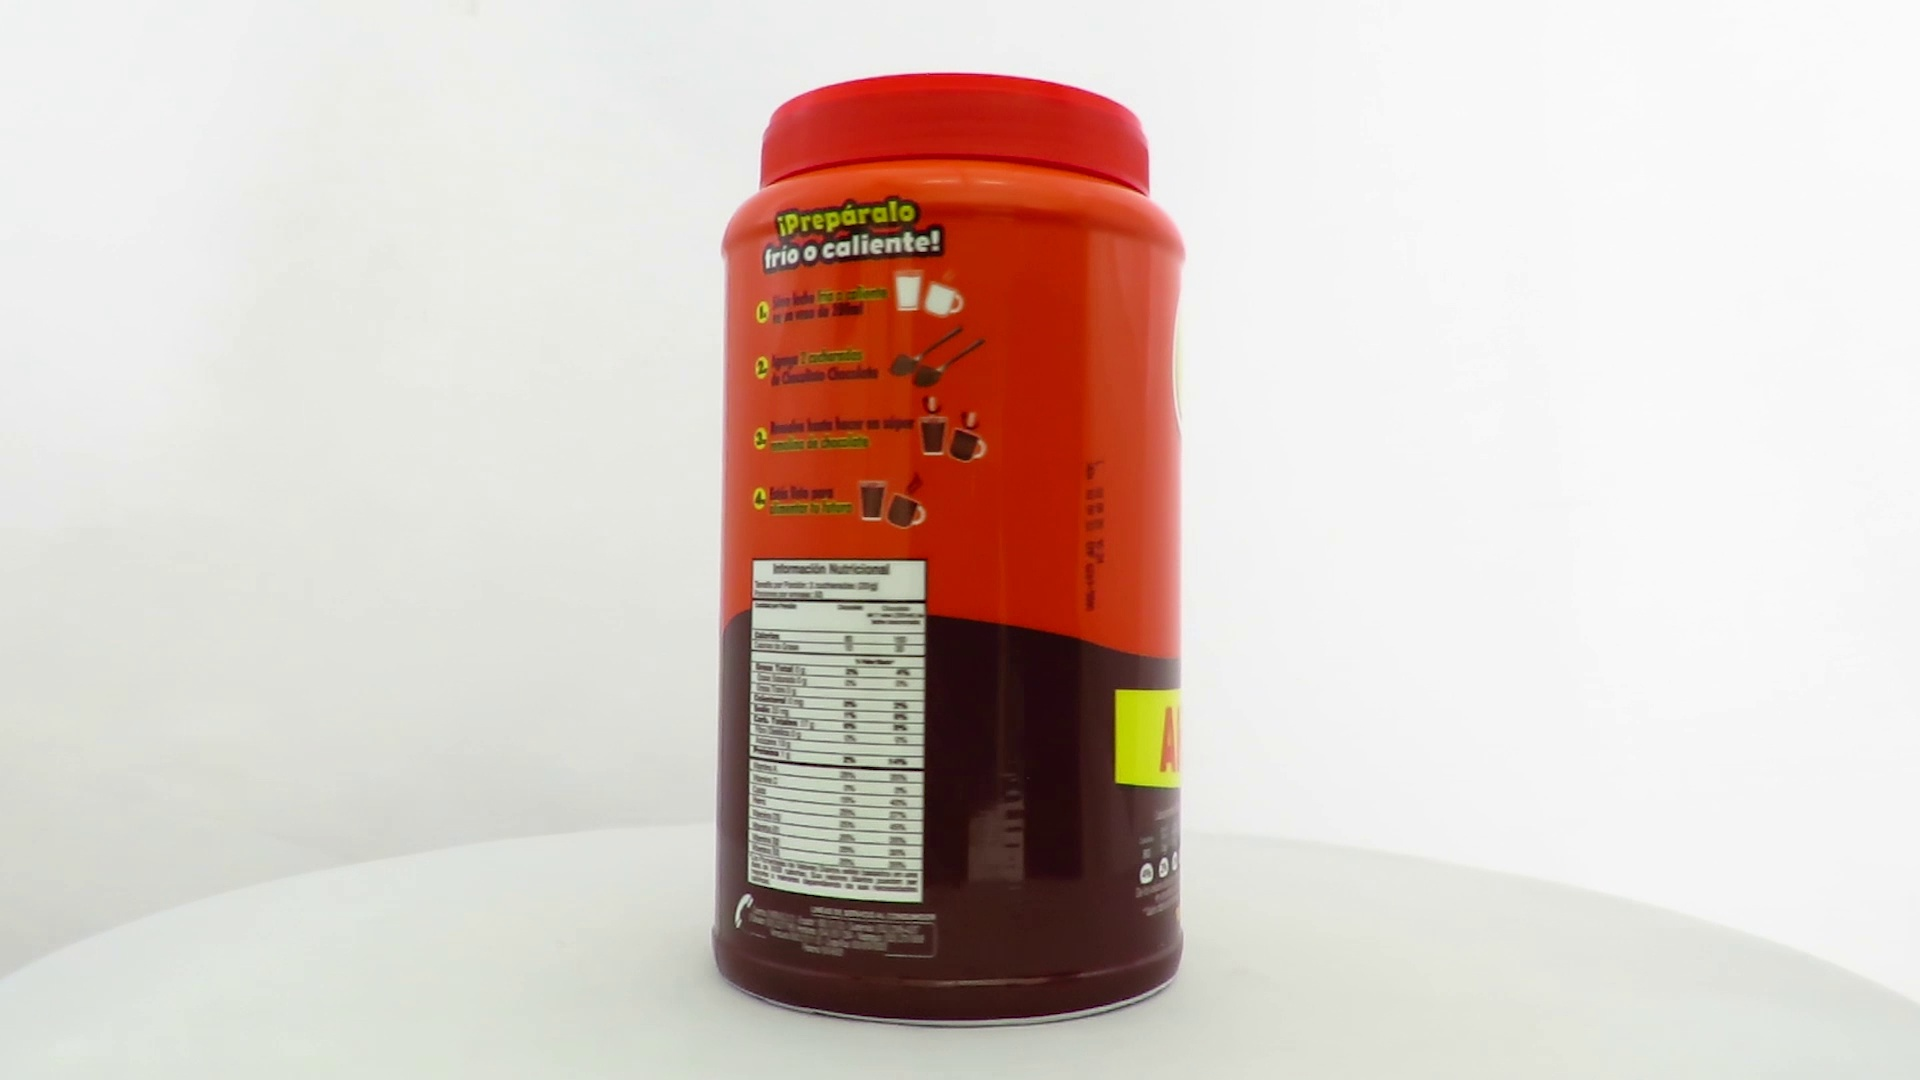COL0170103TRR00100: (705, 67, 1192, 1035)
